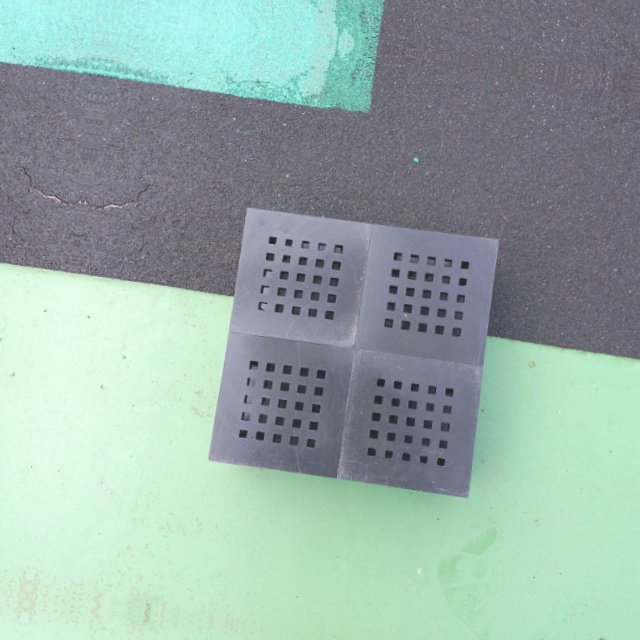pallet: (200, 197, 503, 511)
